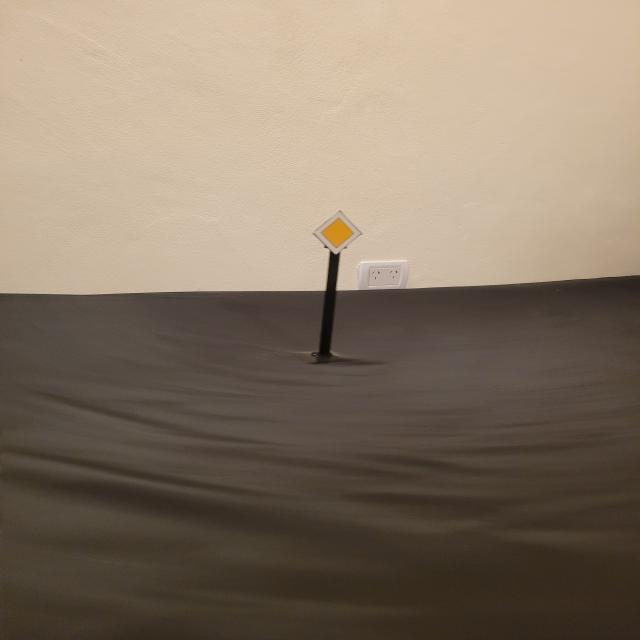priority: (312, 210, 364, 255)
